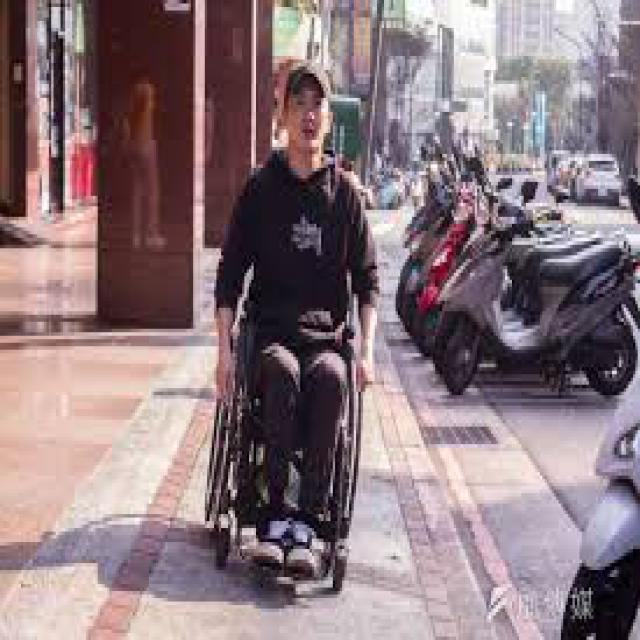wheelchairs: (174, 245, 405, 605)
